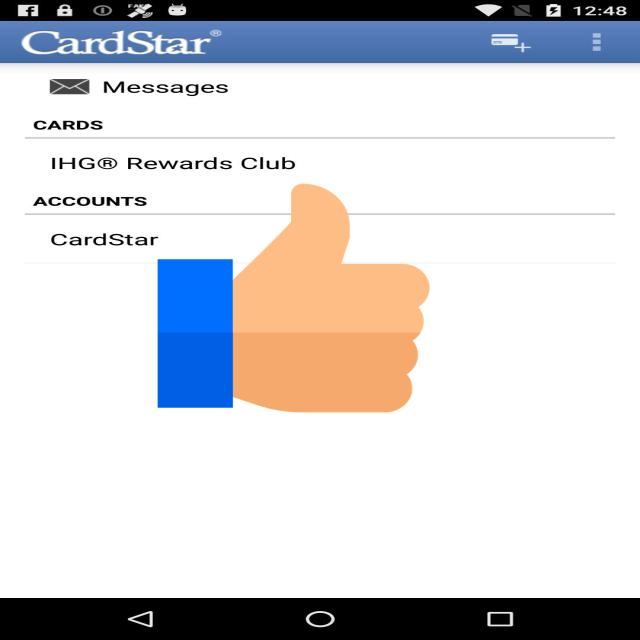privacy zuckering: (158, 178, 430, 418)
